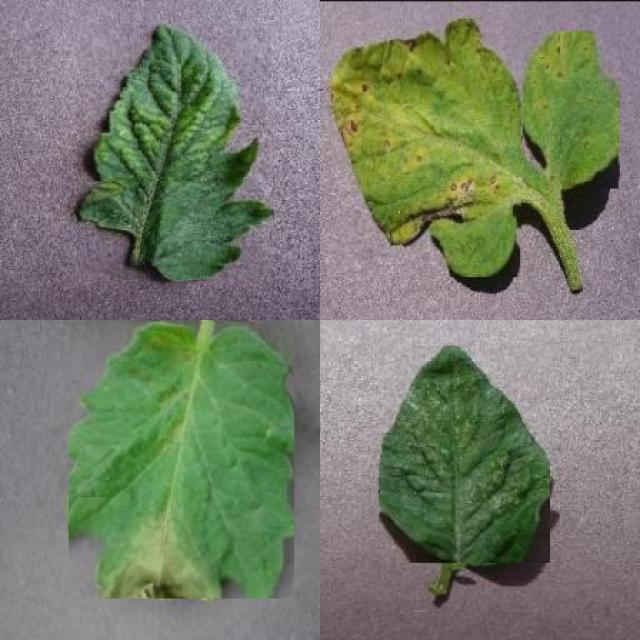Late Blight: (68, 322, 295, 598)
Mosaic Virus: (77, 25, 274, 282)
Septoria: (328, 17, 522, 277), (523, 32, 620, 188)
Spider Mites: (379, 346, 551, 564)
